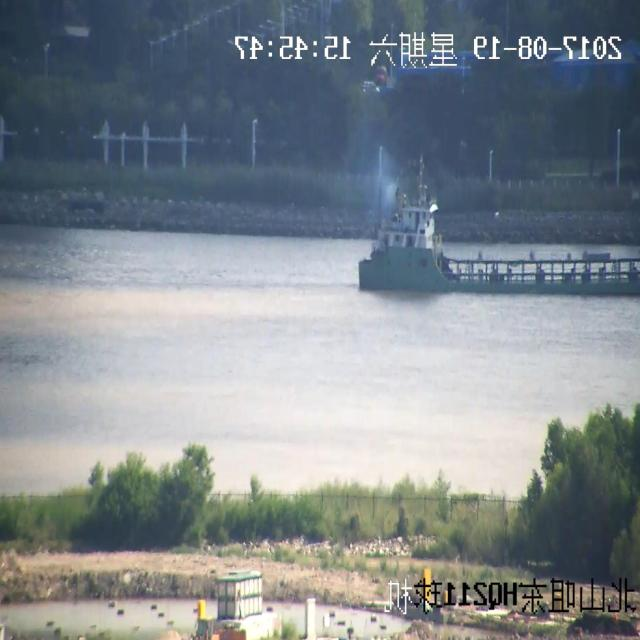houseboat: (343, 187, 639, 310)
